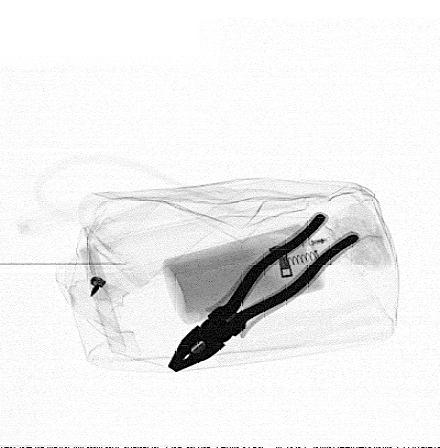Pliers: (163, 211, 366, 378)
